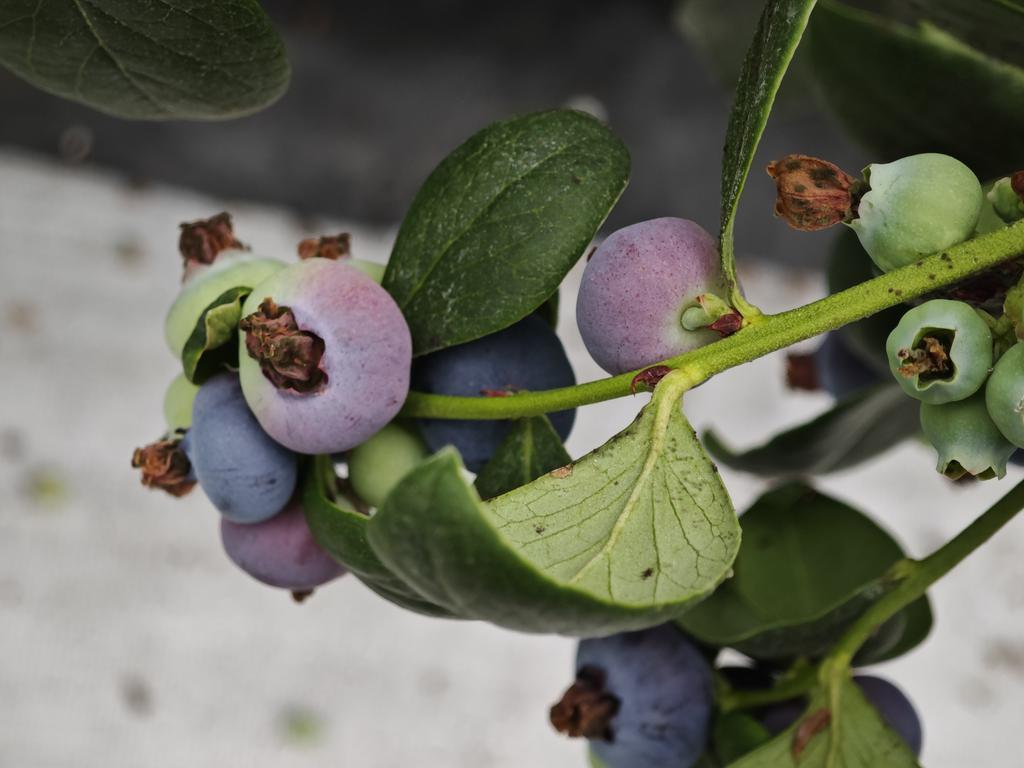Semi-RipeBlueBerry: (235, 254, 417, 458), (575, 210, 743, 374)
